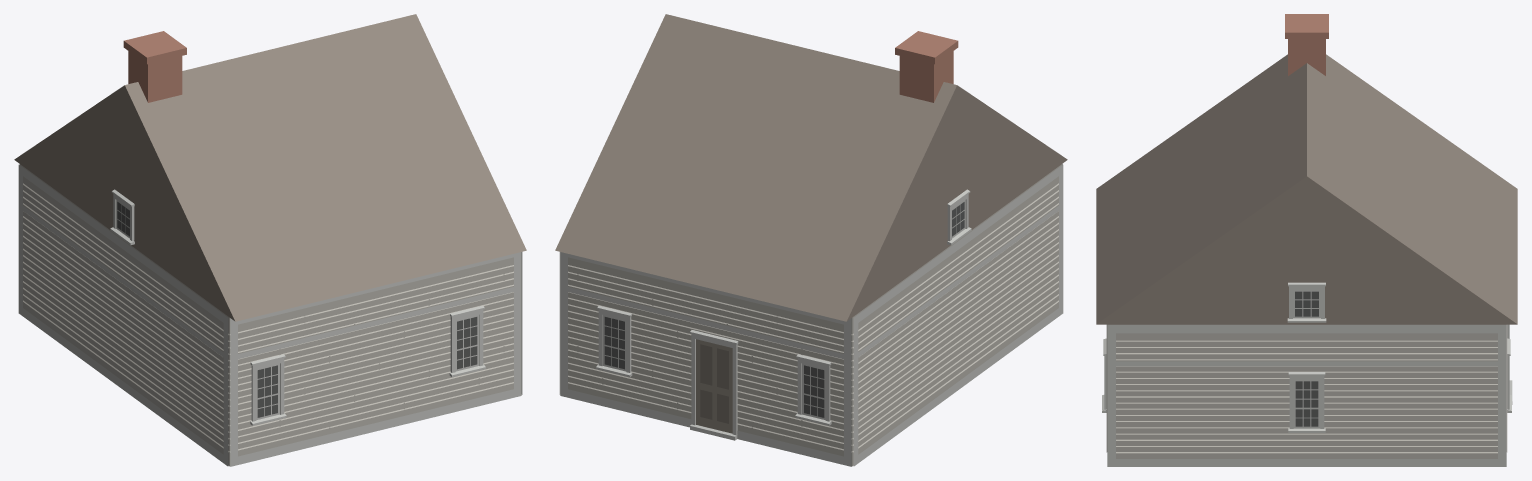
Rendered from recon_1835_south_d6_020__inferred_1835.glb.
3 views of the same model, side by side, from view 1: azimuth 30°, elevation 25°; view 2: azimuth 150°, elevation 25°; view 3: azimuth 270°, elevation 25° (orthographic). The views are drawn at different scales.
Parts seen in each view (by area): view 1: recon_1835_south_d6_020__inferred_1835; view 2: recon_1835_south_d6_020__inferred_1835; view 3: recon_1835_south_d6_020__inferred_1835.
Part boxes in pixels (<box>): recon_1835_south_d6_020__inferred_1835: <box>14,14,526,466</box>; recon_1835_south_d6_020__inferred_1835: <box>555,14,1067,466</box>; recon_1835_south_d6_020__inferred_1835: <box>1096,14,1517,466</box>.
Size of the model in its own units: 7.36 by 7.9 by 9.39.
